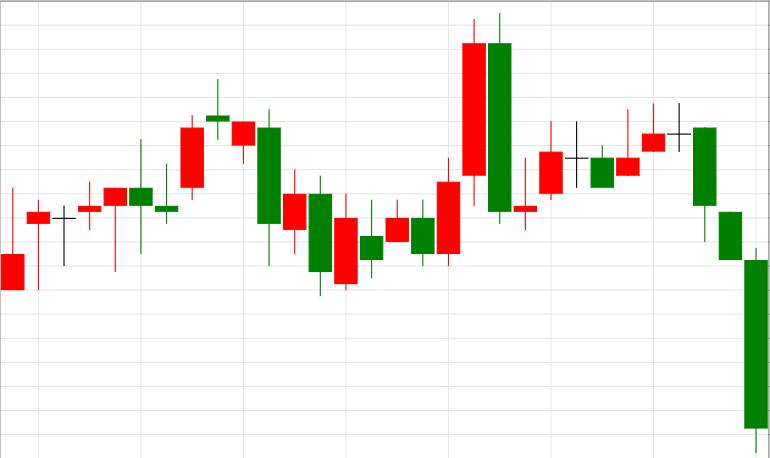bearish_engulfing_fall: (360, 14, 511, 278)
three_black_crows_fall: (591, 102, 767, 452)
